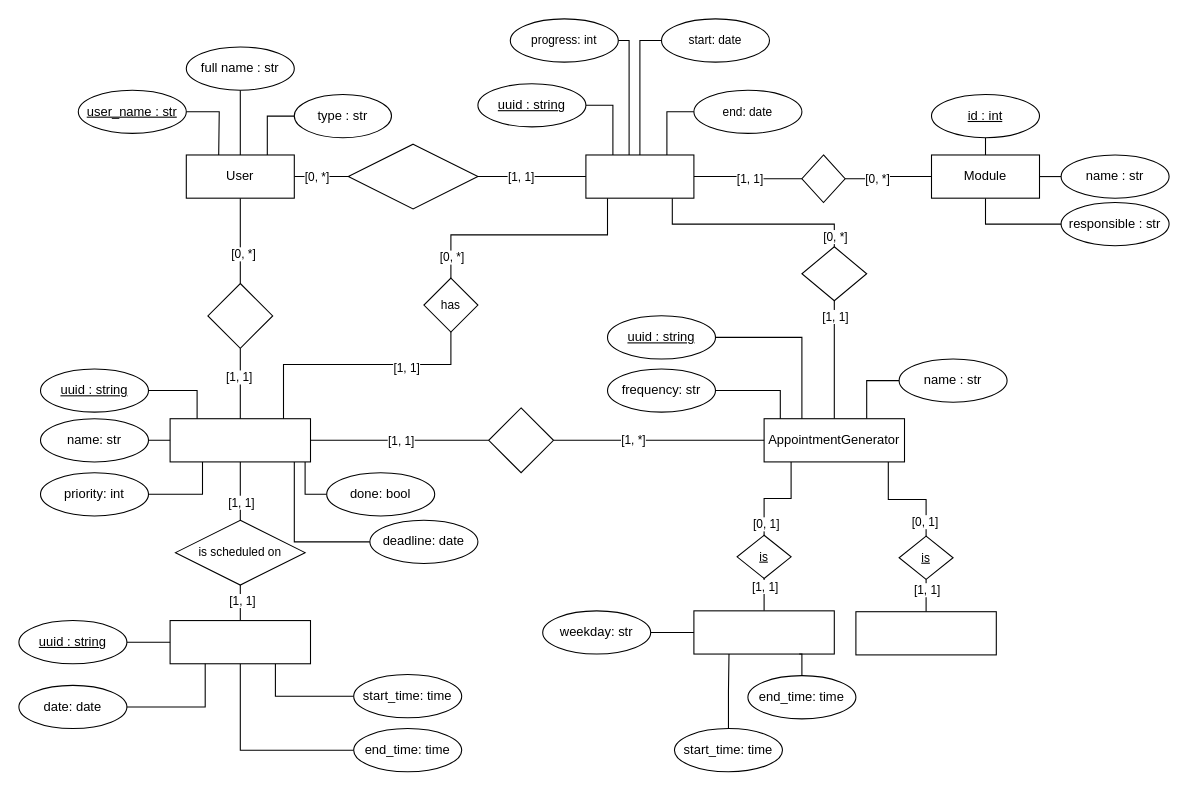
This 1188x792 diagram has some shape labels left out. The shapes that lost their labels are listed below. From the top down, each one's centre as x and y in pixels, then its label:
point 412,176: takes
point 639,176: Course
point 823,178: from
point 834,273: is configured by
point 240,315: creates
point 239,440: Task
point 521,440: is generated by
point 239,641: CalendarEvent
point 763,632: Fixed AppointmentGenerator
point 925,633: Flex AppointmentGenerator
